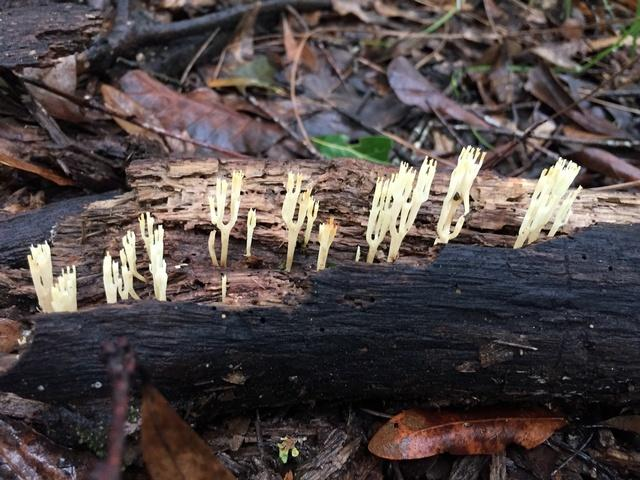edible_mushroom: (364, 154, 436, 263), (512, 155, 583, 249), (282, 169, 339, 279), (103, 215, 174, 302), (432, 144, 486, 245), (203, 169, 262, 257), (24, 235, 85, 315)
